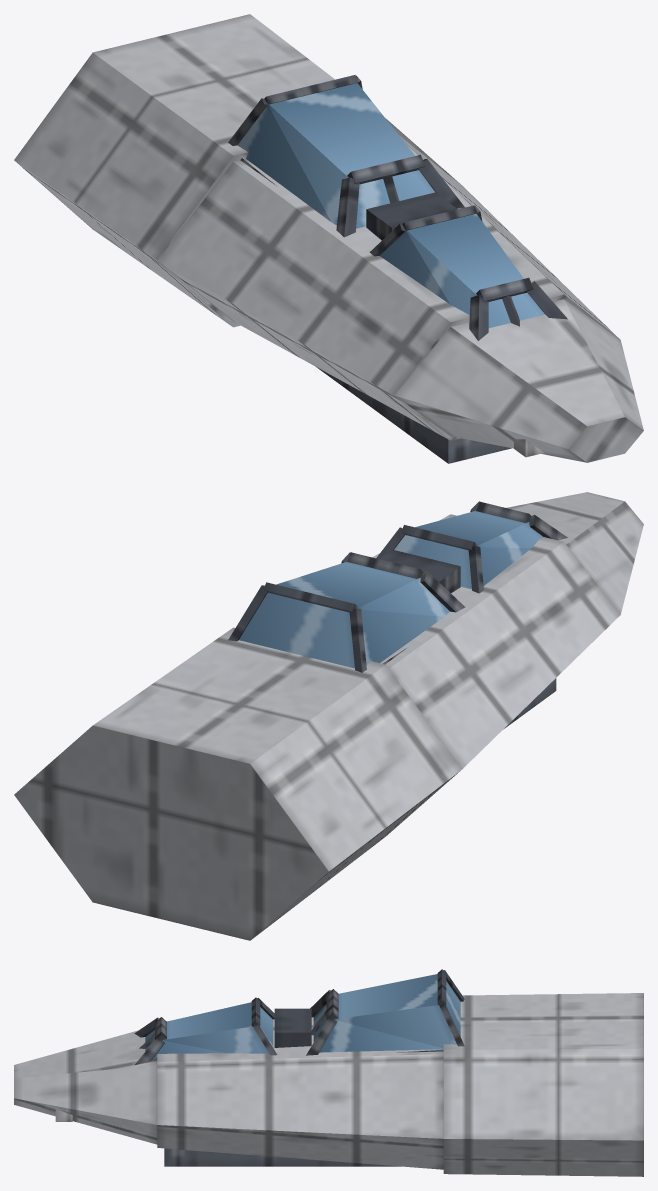
File: ship_tandem_cockpit.obj
3 views of the same model, one above another, from view 1: azimuth 30°, elevation 25°; view 2: azimuth 150°, elevation 25°; view 3: azimuth 270°, elevation 25° (orthographic). The views are drawn at different scales.
Visible parts, largest first — view 1: nose, canopy, frame, chin, spine; view 2: nose, canopy, frame, spine; view 3: nose, canopy, frame, chin, spine.
Boxes of the visible parts, x1,y1,x2,y2 form: nose: (14,14,643,462); canopy: (237,83,544,328); frame: (228,75,567,340); chin: (316,367,511,463); spine: (366,192,457,240); nose: (14,492,643,940); canopy: (239,511,542,668); frame: (228,501,567,672); spine: (379,549,460,592); nose: (14,993,643,1176); canopy: (145,974,460,1058); frame: (134,969,464,1065); chin: (164,1148,400,1166); spine: (274,1008,311,1047).
Size of the model in its own units: 1.84 by 1.27 by 4.4.
5 materials, 5 textured.
